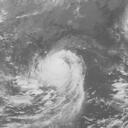cyclone: (24, 49, 85, 125)
